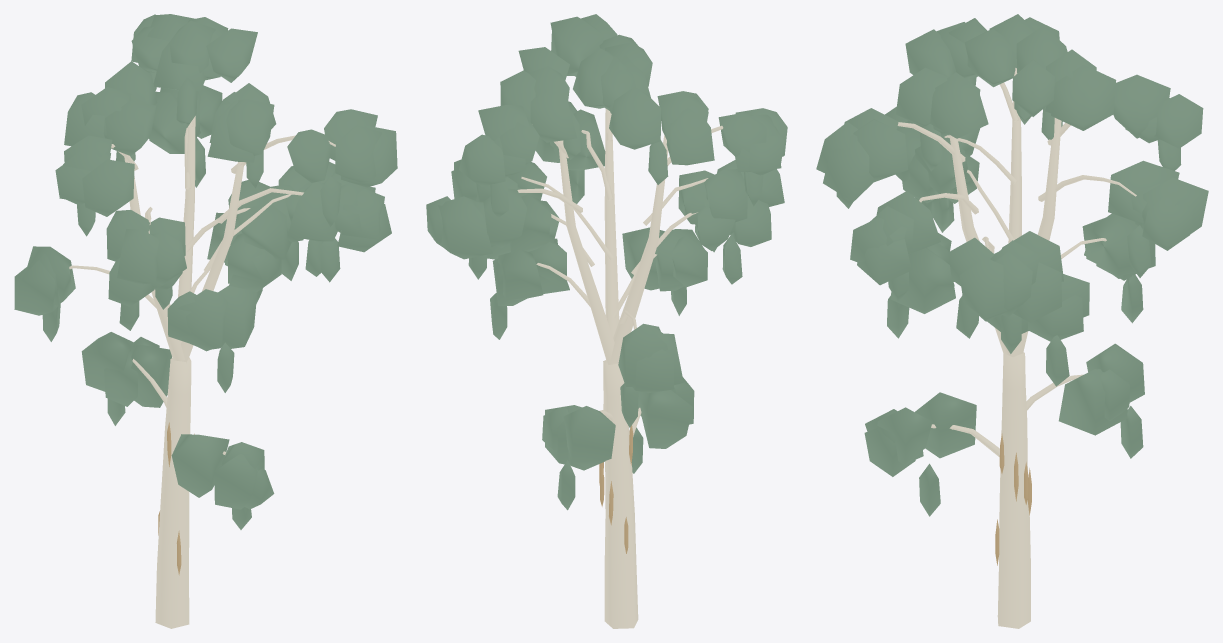
The model's file is Blender_Eucalyptus_1_Far.glb.
The picture shows the model from 3 angles, left to right: view 1: azimuth 30°, elevation 25°; view 2: azimuth 150°, elevation 25°; view 3: azimuth 270°, elevation 25°; orthographic projection. The views are drawn at different scales.
Parts seen in each view (by area): view 1: Blender_Eucalyptus_1_Far; view 2: Blender_Eucalyptus_1_Far; view 3: Blender_Eucalyptus_1_Far.
Boxes of the visible parts, box(x1,y1,x2,y2) form: Blender_Eucalyptus_1_Far: box(14, 14, 397, 628); Blender_Eucalyptus_1_Far: box(426, 14, 787, 628); Blender_Eucalyptus_1_Far: box(816, 14, 1208, 628).
Bounding box in the file's own units: 21.11 × 35.64 × 21.28.
